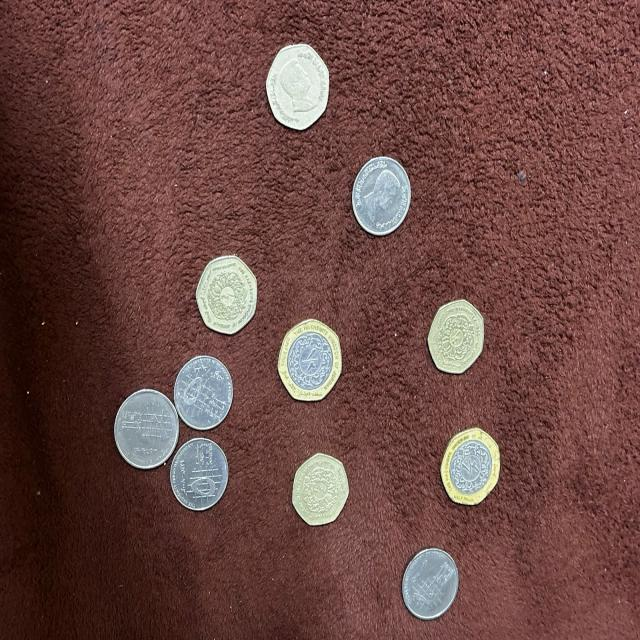10-coins: (114, 389, 180, 469), (401, 547, 460, 620)
25-coins: (264, 44, 332, 130), (195, 255, 258, 336), (428, 300, 485, 376), (291, 453, 350, 526)
5-coins: (351, 155, 412, 238), (169, 435, 229, 513), (172, 356, 233, 430)
50-coins: (276, 318, 342, 402), (439, 427, 502, 507)
